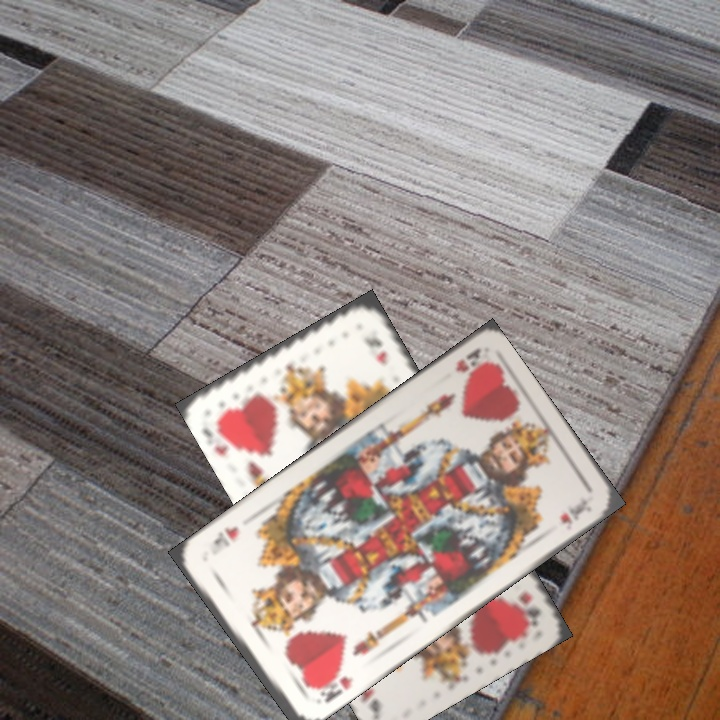HK: (308, 665, 356, 706), (451, 344, 490, 377), (514, 587, 544, 629), (197, 423, 231, 459)
